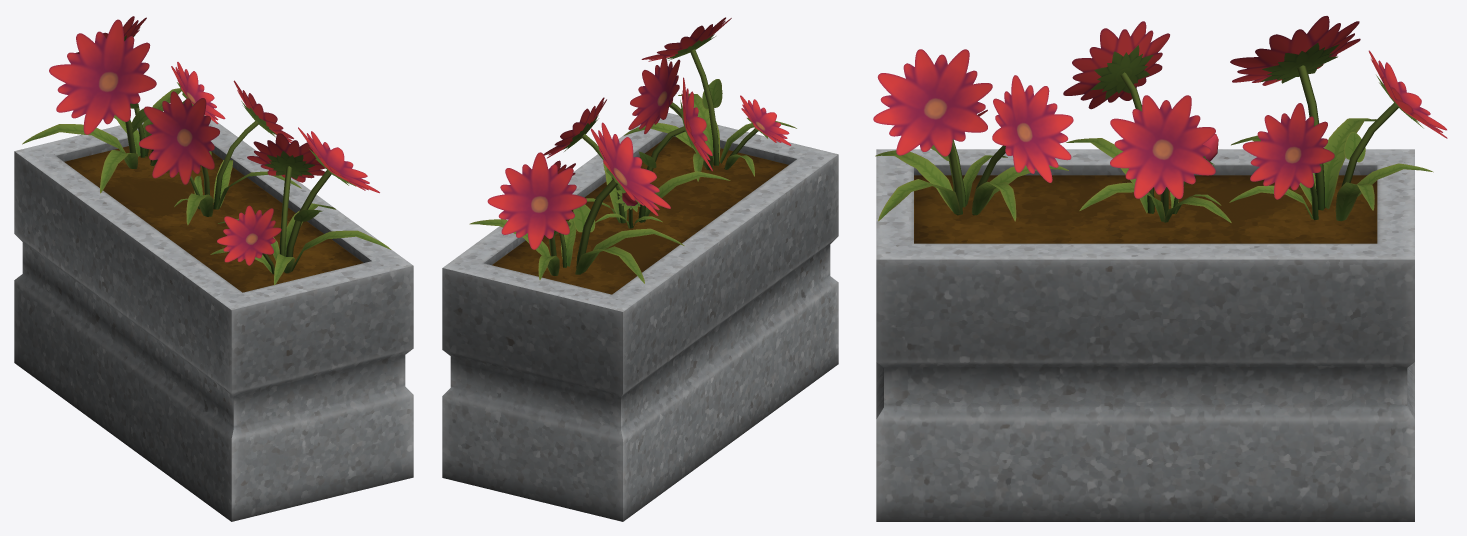
Rendered from pot_lod0_First_Material_0.fbx.
3 renders of one model, left to right at view 1: azimuth 30°, elevation 25°; view 2: azimuth 150°, elevation 25°; view 3: azimuth 270°, elevation 25°, orthographic. The views are drawn at different scales.
Visible parts, largest first — view 1: pot_lod0_First_Material_0; view 2: pot_lod0_First_Material_0; view 3: pot_lod0_First_Material_0.
Part boxes in pixels (left/top/right/bottom): pot_lod0_First_Material_0: left=14, top=16, right=413, bottom=521; pot_lod0_First_Material_0: left=442, top=17, right=838, bottom=521; pot_lod0_First_Material_0: left=873, top=16, right=1447, bottom=521.
Size of the model in its own units: 64.69 by 115 by 139.
